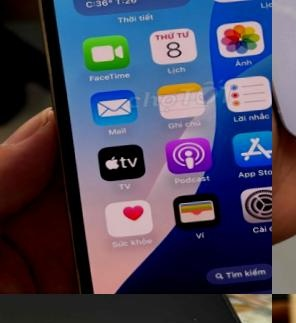scratch: (187, 306, 200, 323)
